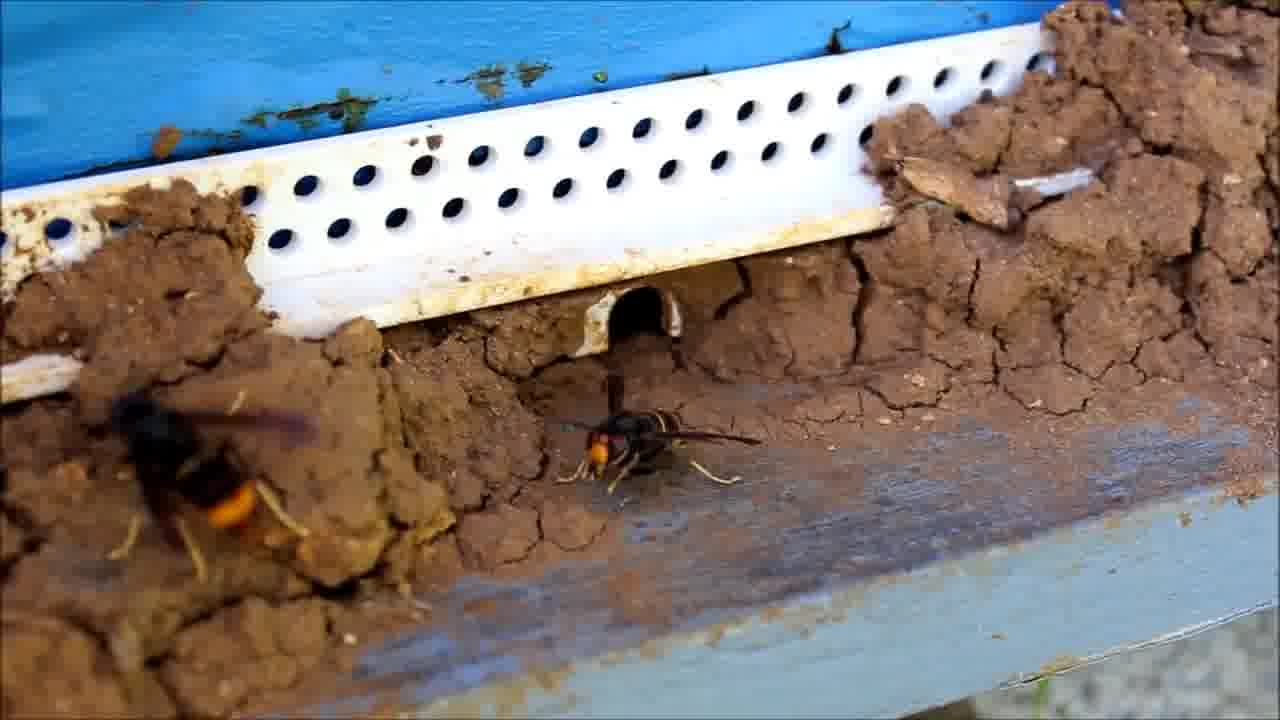hornet: (90, 396, 311, 554), (569, 396, 715, 486)
